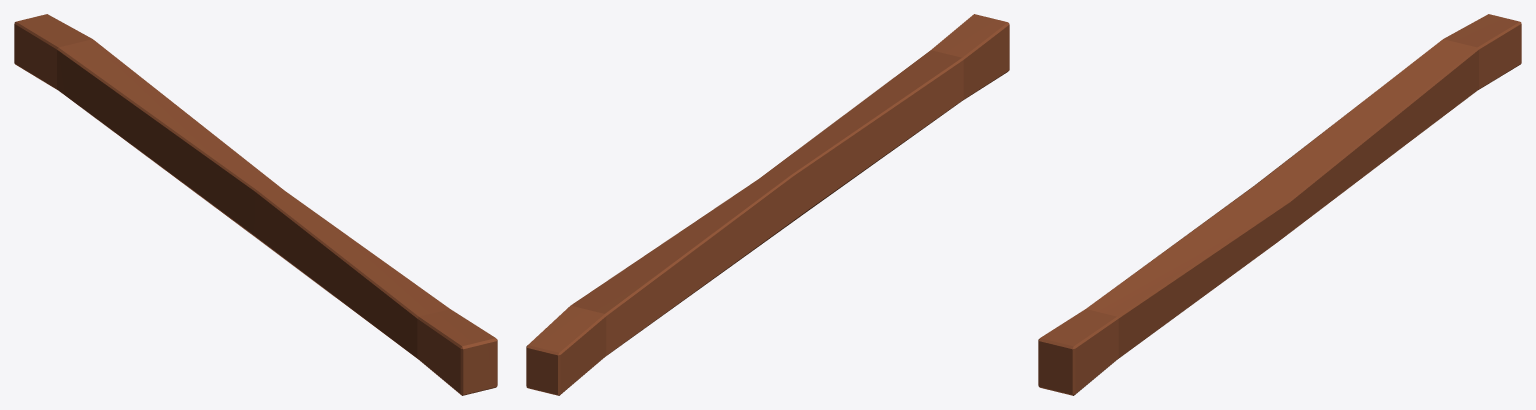
Rendered from Small beam.fbx.
The picture shows the model from 3 angles, left to right: view 1: azimuth 30°, elevation 25°; view 2: azimuth 150°, elevation 25°; view 3: azimuth 330°, elevation 25°; orthographic projection.
Parts seen in each view (by area): view 1: Small beam; view 2: Small beam; view 3: Small beam.
Boxes of the visible parts, <box> form: Small beam: <box>14,14,497,395</box>; Small beam: <box>526,14,1009,395</box>; Small beam: <box>1038,14,1521,395</box>.
Size of the model in its own units: 15.83 by 20.39 by 309.
